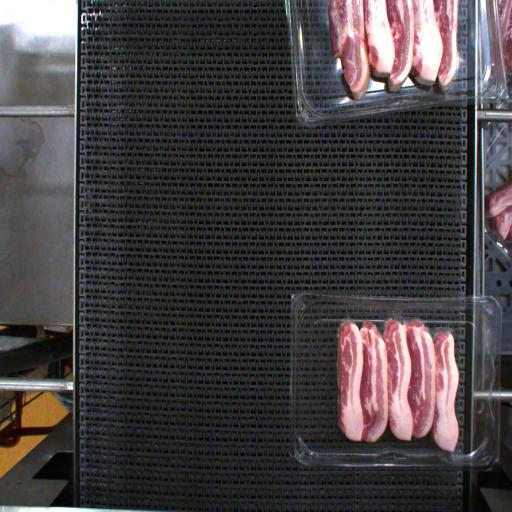packaging-error: (384, 310, 412, 326)
unsealed: (433, 319, 458, 349)
